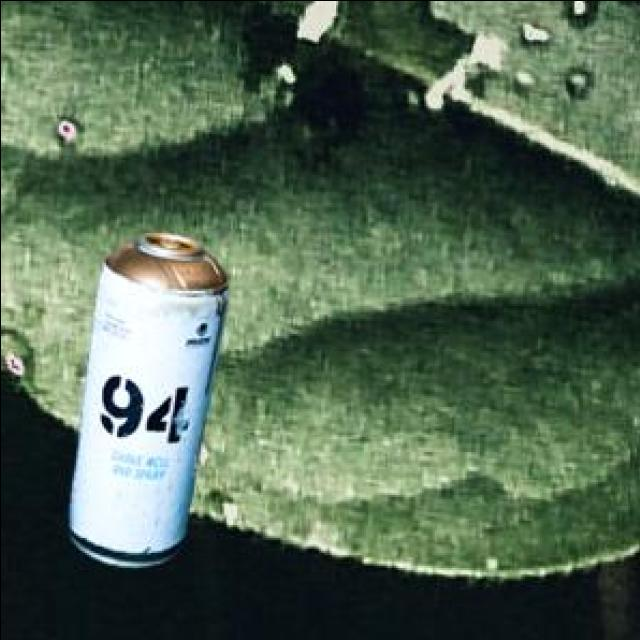logam: (72, 235, 231, 570)
